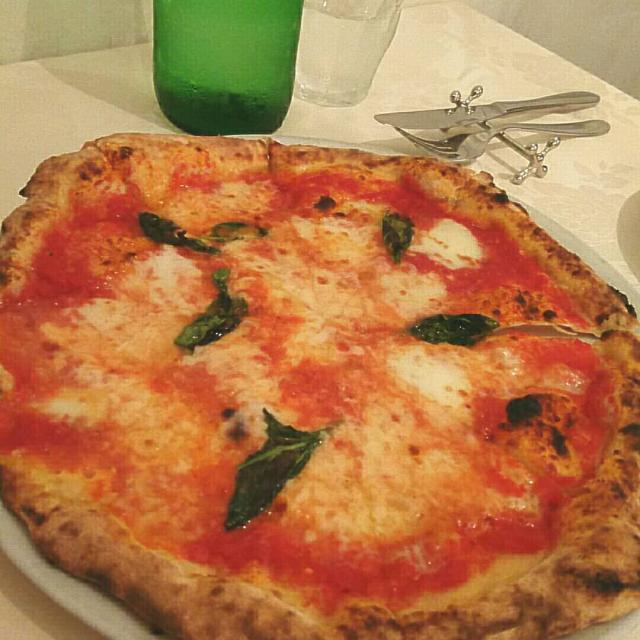basil: (220, 403, 332, 533), (175, 263, 252, 352), (138, 207, 222, 258), (412, 312, 498, 347), (378, 211, 417, 268), (216, 222, 266, 237)
pizza: (0, 129, 640, 640)
